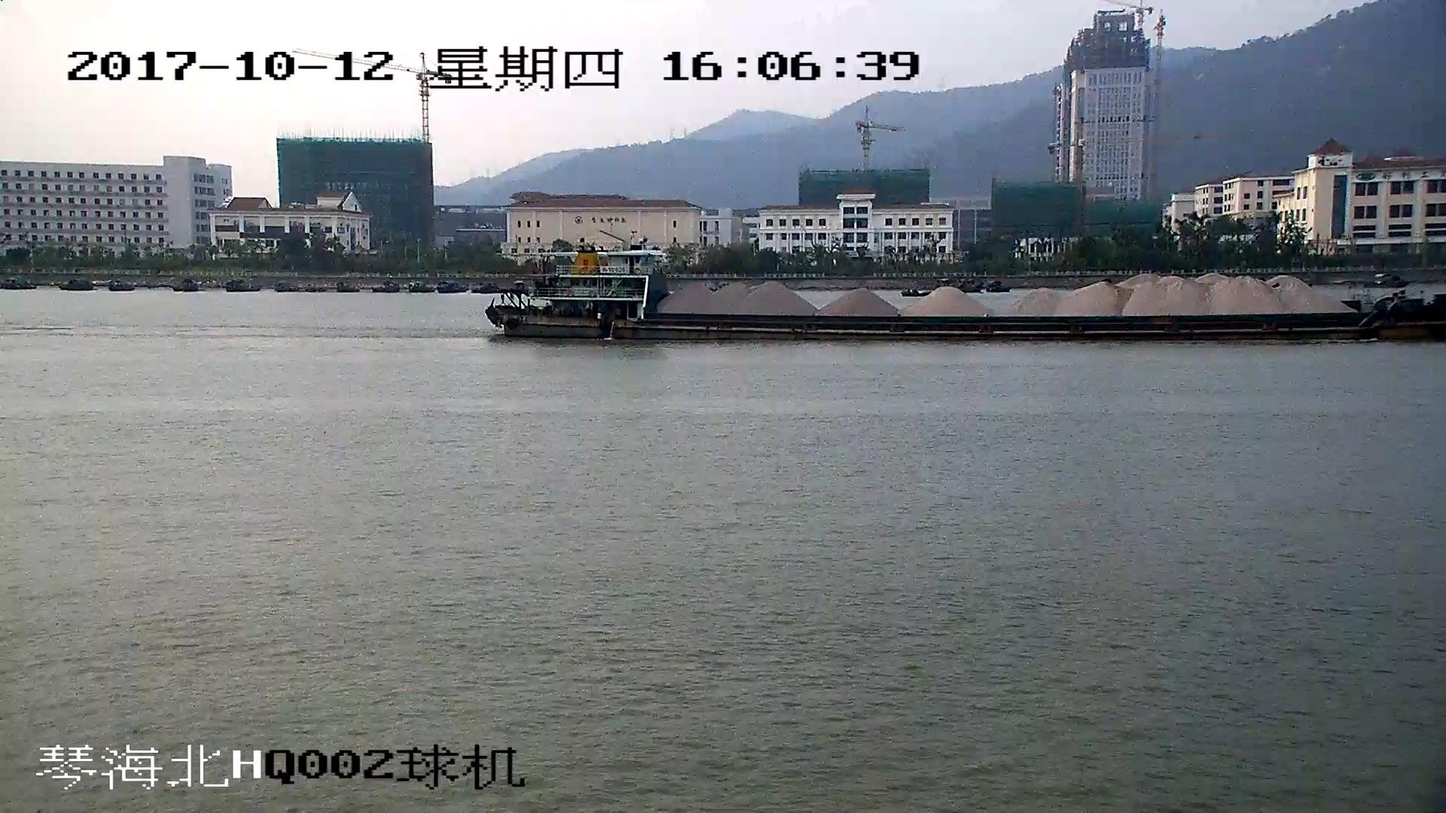ore carrier: (490, 252, 1445, 343)
